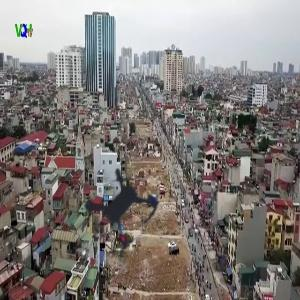drone: (30, 119, 207, 296)
